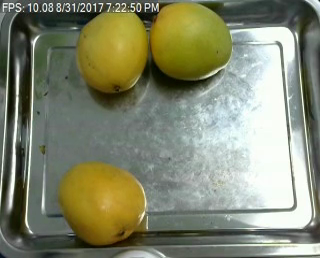Mango: (57, 159, 149, 244), (151, 4, 233, 80), (75, 10, 147, 93)
